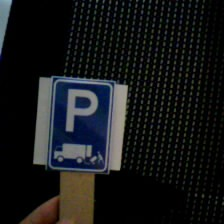load: (35, 70, 124, 176)
